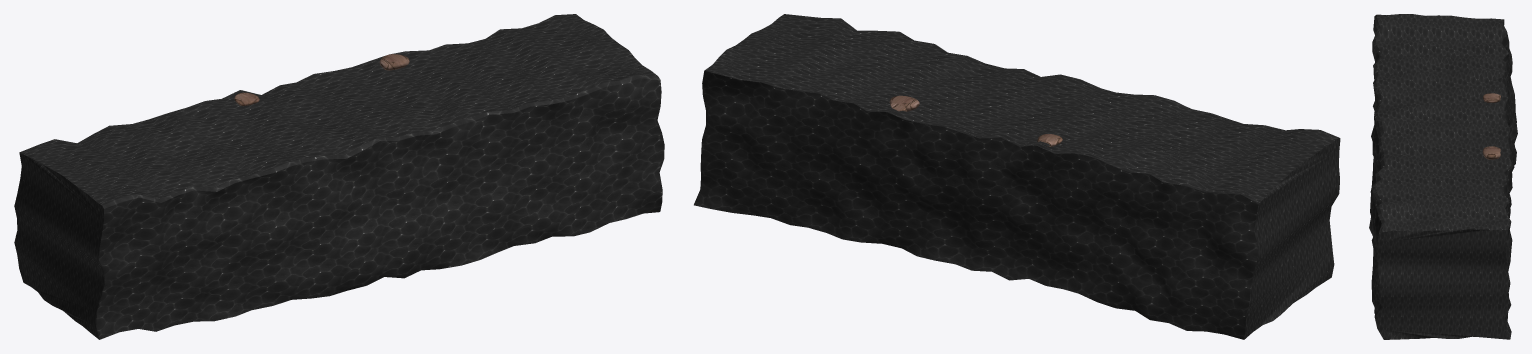
Rendered from Tar.FBX.
3 renders of one model, left to right at view 1: azimuth 30°, elevation 25°; view 2: azimuth 150°, elevation 25°; view 3: azimuth 270°, elevation 25°, orthographic. The views are drawn at different scales.
Visible parts, largest first — view 1: Tar; view 2: Tar; view 3: Tar, Right_Stone, Left_Stone.
Part boxes in pixels (x1,y1,x2,y2): Tar: (14, 14, 664, 339); Tar: (694, 14, 1340, 339); Tar: (1369, 14, 1517, 339); Right_Stone: (1482, 146, 1500, 159); Left_Stone: (1483, 93, 1500, 102).
Size of the model in its own units: 2543 by 644 by 744.
2 materials, 2 textured.
